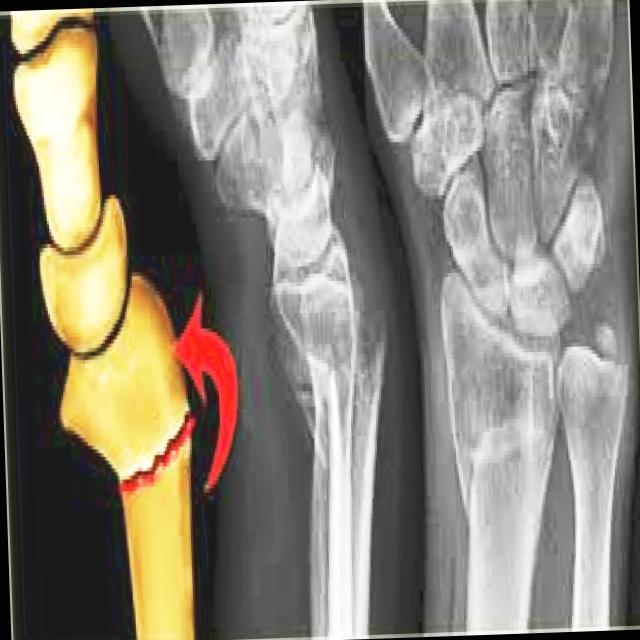Comminuted Fracture: (499, 314, 632, 392), (294, 291, 404, 357)
